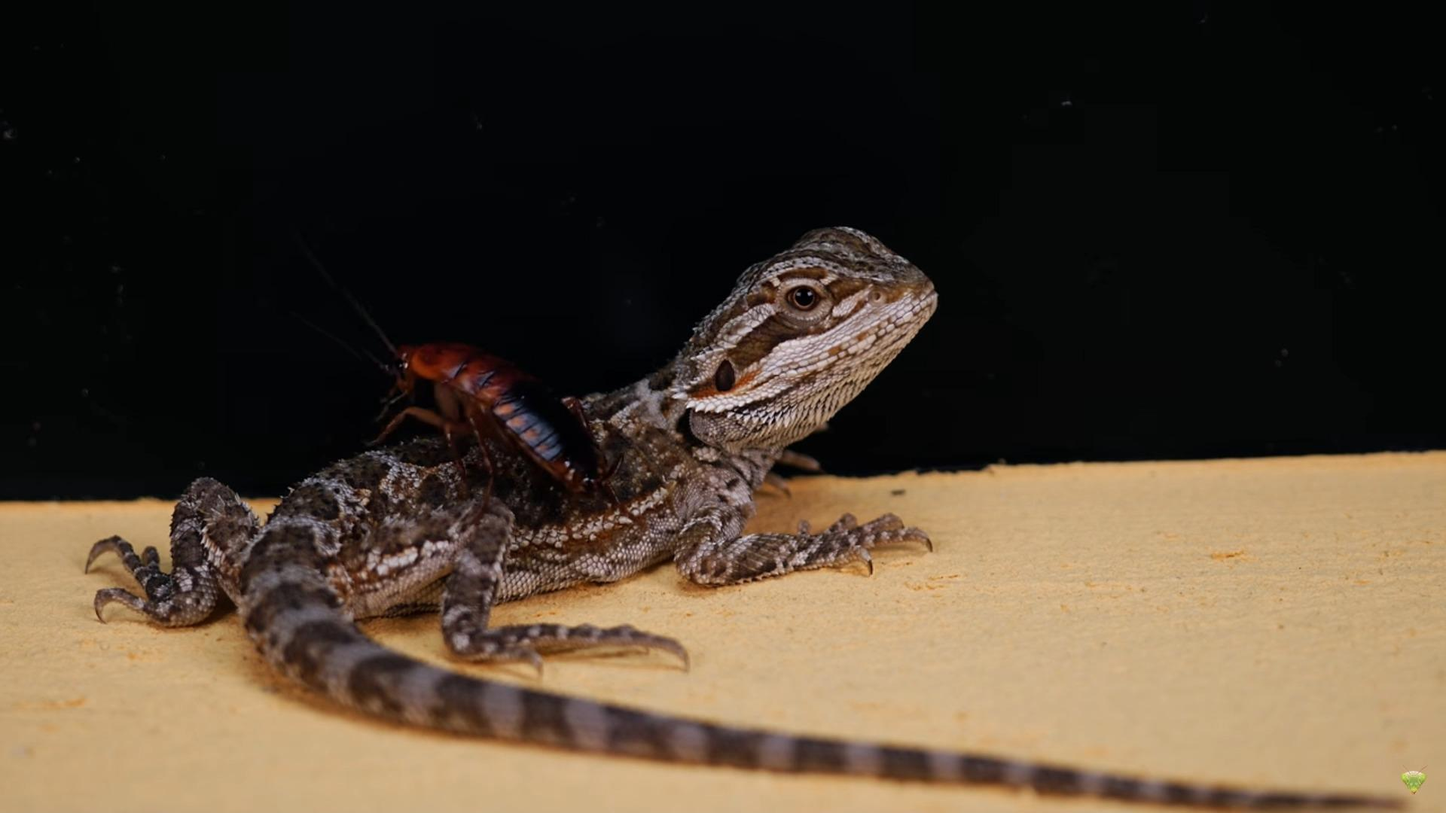cockroach: (341, 312, 617, 510)
lizard: (71, 212, 972, 772)
